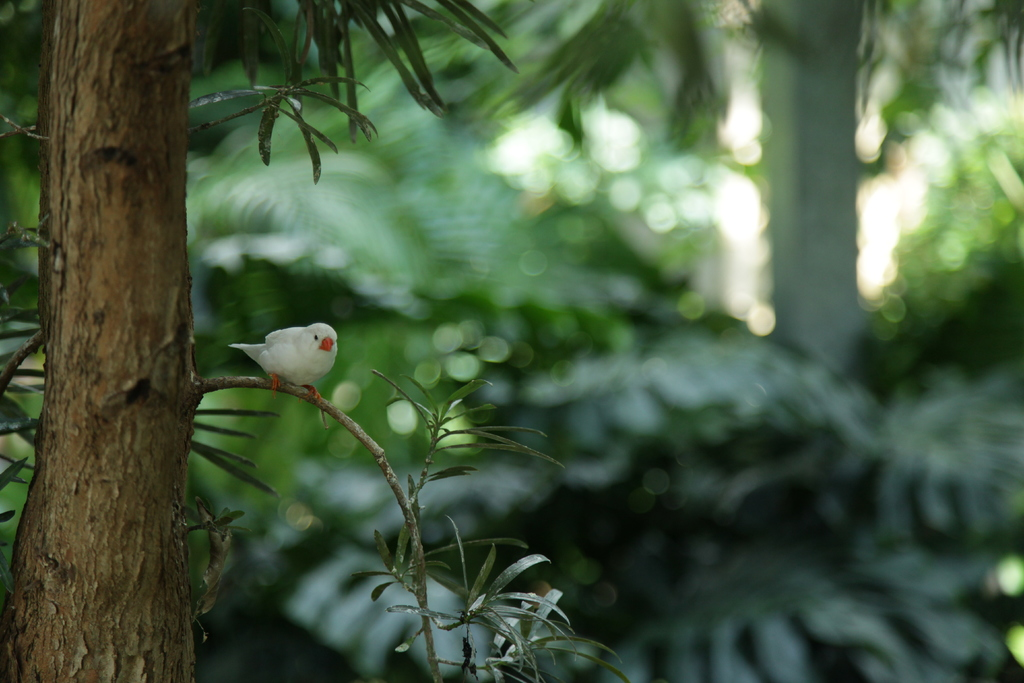Tree: (24, 14, 267, 617)
